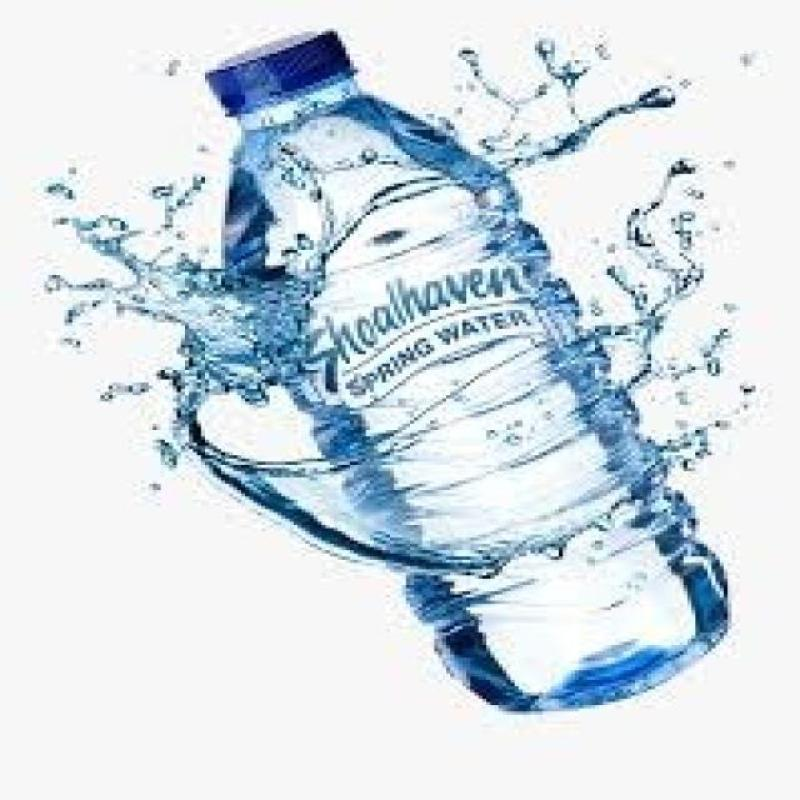botella: (195, 25, 734, 715)
